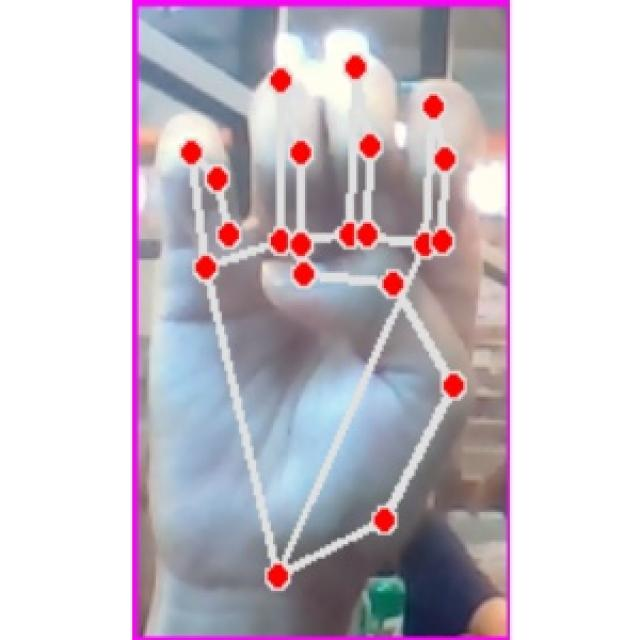E: (148, 43, 484, 602)
